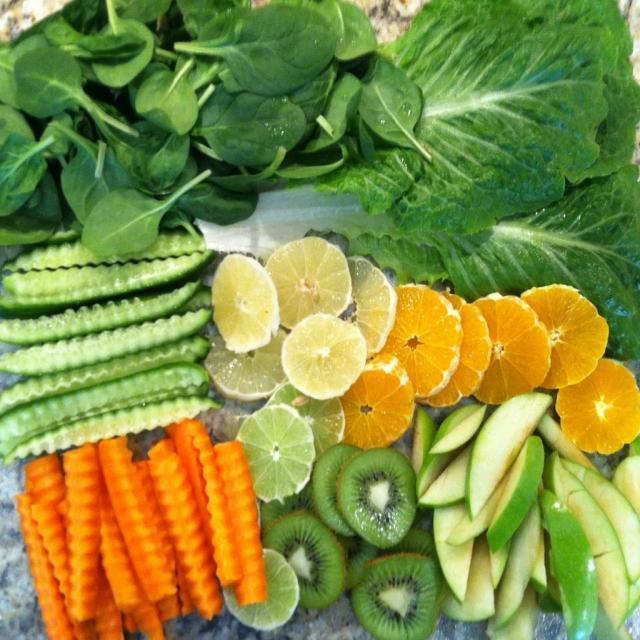Orange: (549, 361, 632, 446)
